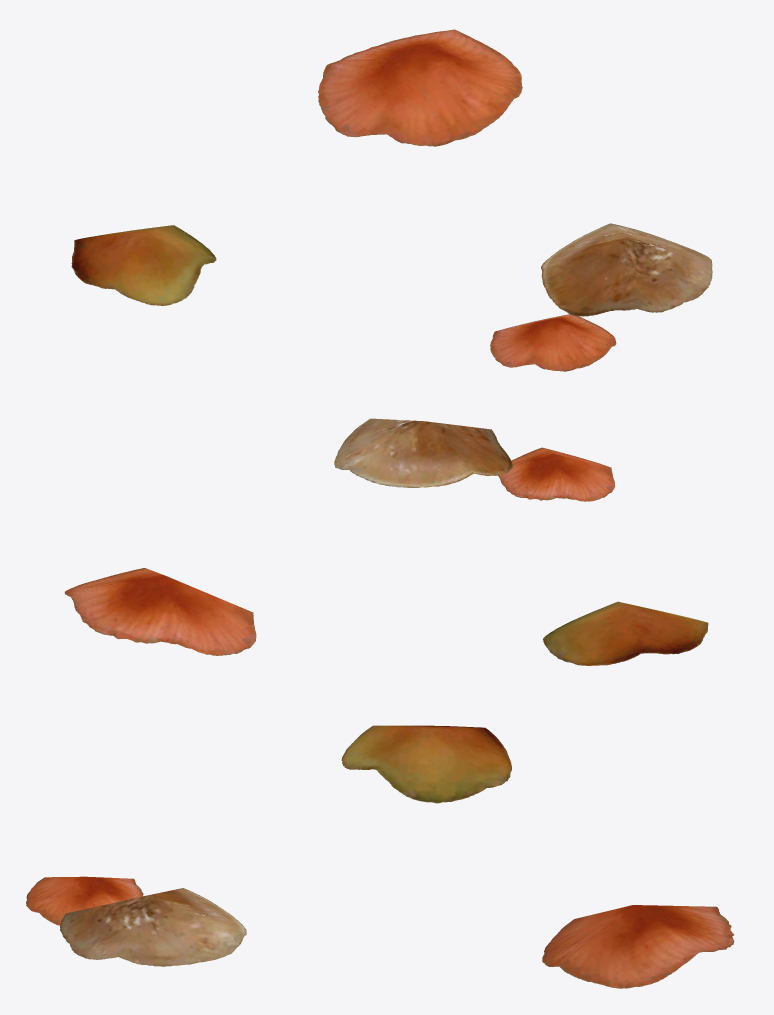
File: fngi_mushroom_clump_a4_l2.fbx
3 views of the same model, one above another, from view 1: azimuth 30°, elevation 25°; view 2: azimuth 150°, elevation 25°; view 3: azimuth 270°, elevation 25° (orthographic). The views are drawn at different scales.
Parts seen in each view (by area): view 1: mesh_node; view 2: mesh_node; view 3: mesh_node.
Boxes of the visible parts, box(x1,y1,x2,y2) form: mesh_node: box(71, 29, 712, 371); mesh_node: box(64, 418, 708, 665); mesh_node: box(26, 725, 734, 988).
Size of the model in its own units: 1.51 by 0.1715 by 1.66.
